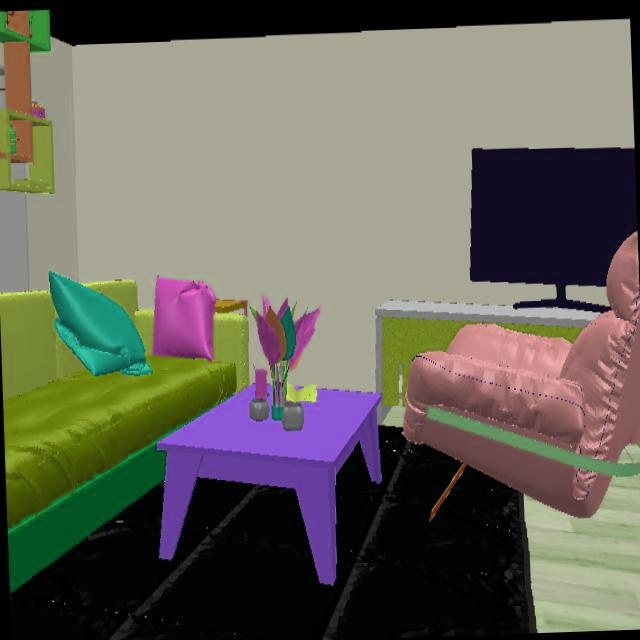monitor: (469, 148, 637, 290)
pillow: (49, 271, 153, 377), (151, 275, 214, 361)
sofa: (401, 231, 640, 520), (0, 279, 249, 484)
table: (158, 388, 380, 585)
